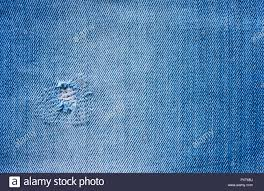Hole: (7, 64, 118, 132)
